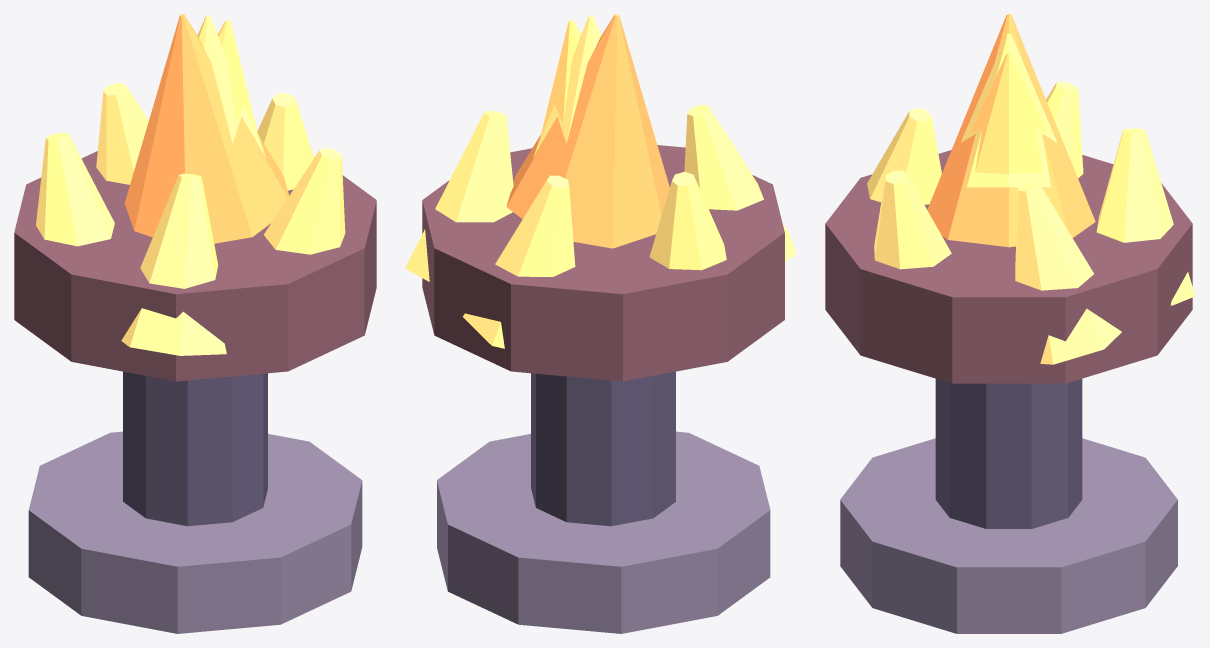
File: ember_dungeon_lantern.glb
3 views of the same model, side by side, from view 1: azimuth 30°, elevation 25°; view 2: azimuth 150°, elevation 25°; view 3: azimuth 270°, elevation 25° (orthographic).
Visible parts, largest first — view 1: Foot.016, Bowl.001, Stem.006, FlameLayer_0.009, Petal_3.001, Petal_4.001, Petal_2.001, Petal_0.001, Petal_1.001, FlameLayer_1.009, FlameLayer_2.003; view 2: Foot.016, Bowl.001, Stem.006, FlameLayer_0.009, Petal_1.001, Petal_0.001, Petal_3.001, Petal_4.001, FlameLayer_1.009, FlameLayer_2.003; view 3: Foot.016, Bowl.001, Stem.006, FlameLayer_0.009, Petal_1.001, Petal_0.001, FlameLayer_2.003, Petal_2.001, Petal_3.001, FlameLayer_1.009, Petal_4.001.
Boxes of the visible parts, <box> form: Foot.016: <box>28,431,362,633</box>; Bowl.001: <box>14,151,376,381</box>; Stem.006: <box>123,371,267,526</box>; FlameLayer_0.009: <box>124,14,289,243</box>; Petal_3.001: <box>121,173,226,355</box>; Petal_4.001: <box>36,133,114,246</box>; Petal_2.001: <box>264,148,345,254</box>; Petal_0.001: <box>96,83,148,184</box>; Petal_1.001: <box>257,93,313,190</box>; FlameLayer_1.009: <box>197,15,265,157</box>; FlameLayer_2.003: <box>218,20,259,141</box>; Foot.016: <box>437,431,770,633</box>; Bowl.001: <box>422,145,784,381</box>; Stem.006: <box>531,371,675,526</box>; FlameLayer_0.009: <box>506,14,669,248</box>; Petal_1.001: <box>405,110,513,281</box>; Petal_0.001: <box>463,175,575,348</box>; Petal_3.001: <box>684,105,796,262</box>; Petal_4.001: <box>649,172,726,270</box>; FlameLayer_1.009: <box>533,15,601,157</box>; FlameLayer_2.003: <box>539,20,581,141</box>; Foot.016: <box>840,438,1177,633</box>; Bowl.001: <box>825,150,1192,383</box>; Stem.006: <box>935,379,1082,528</box>; FlameLayer_0.009: <box>927,14,1095,247</box>; Petal_1.001: <box>1015,182,1121,364</box>; Petal_0.001: <box>1096,128,1195,305</box>; FlameLayer_2.003: <box>971,52,1046,174</box>; Petal_2.001: <box>874,170,951,269</box>; Petal_3.001: <box>867,108,941,204</box>; FlameLayer_1.009: <box>960,33,1057,187</box>; Petal_4.001: <box>1046,82,1083,178</box>.
Size of the model in its own units: 2.45 by 4.1 by 2.52.
